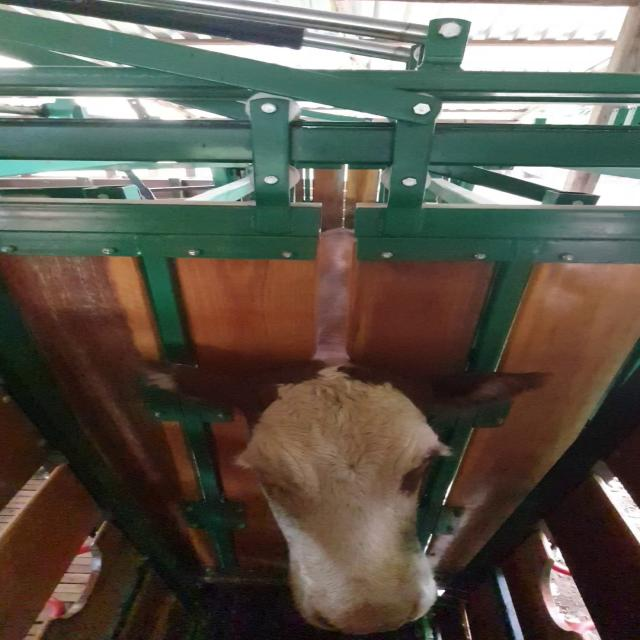cowFace: (241, 372, 443, 634)
